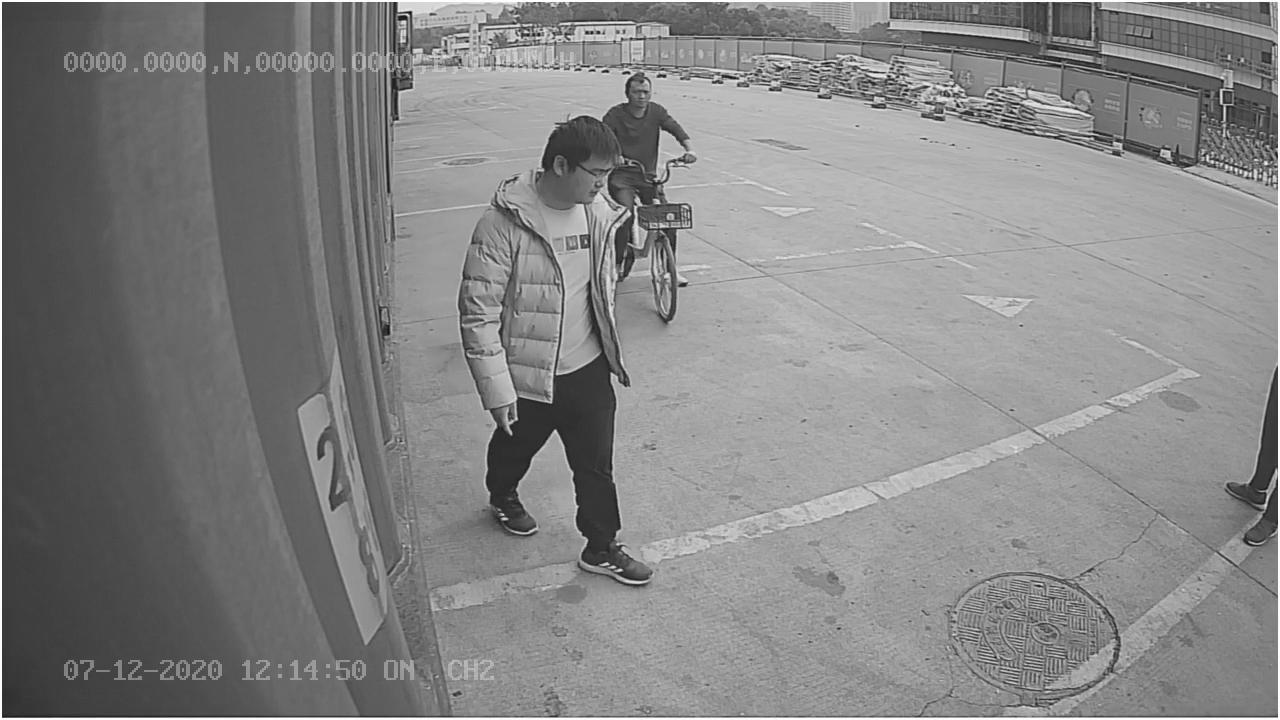person: (457, 115, 659, 587)
